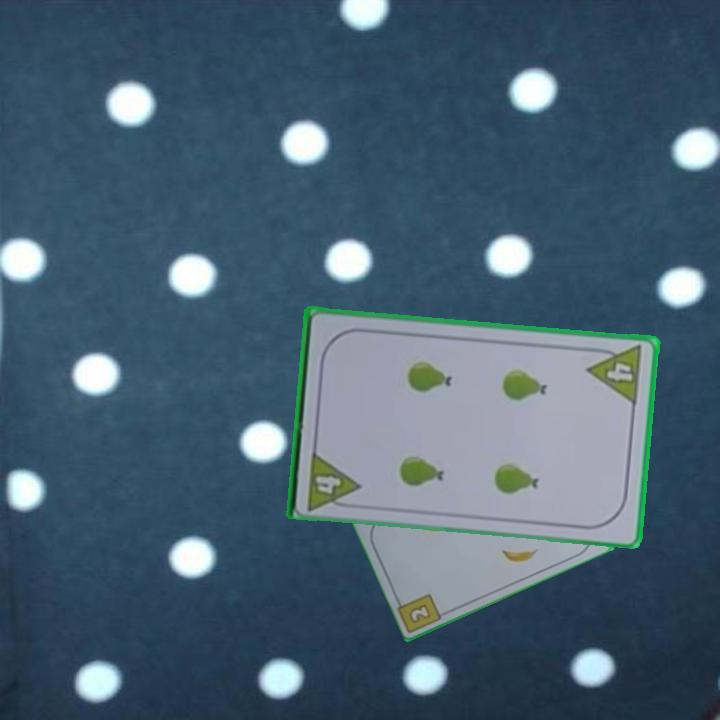2b: (407, 600, 434, 624)
4p: (584, 342, 645, 407), (303, 446, 362, 512)
